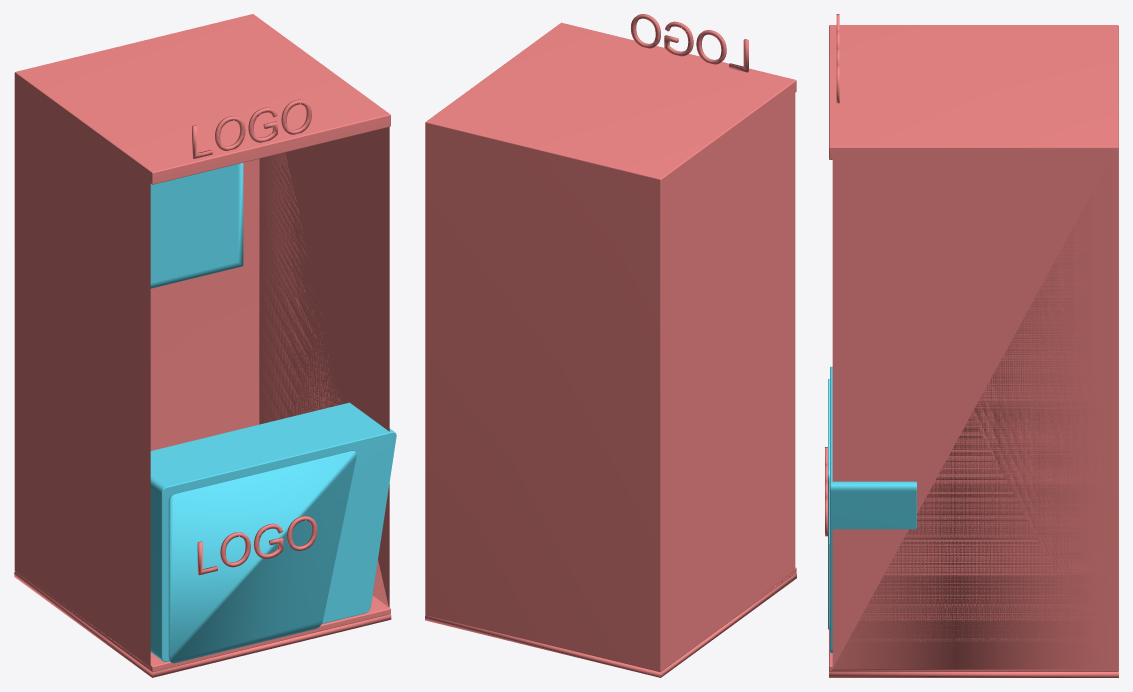
The model's file is stand00.obj.
The picture shows the model from 3 angles, left to right: view 1: azimuth 30°, elevation 25°; view 2: azimuth 150°, elevation 25°; view 3: azimuth 270°, elevation 25°; orthographic projection. The views are drawn at different scales.
Visible parts, largest first — view 1: Rectangle004, Box007, Box006, Box008, Box005, TextPlus001, TextPlus002; view 2: Rectangle004, Box005, TextPlus002; view 3: Rectangle004, Box006, Box005, Box007.
Part boxes in pixels (box(x1,y1,x2,y2)): Rectangle004: box(14, 14, 390, 672); Box007: box(168, 450, 356, 663); Box006: box(150, 402, 396, 661); Box008: box(150, 163, 243, 288); Box005: box(14, 572, 391, 677); TextPlus001: box(197, 516, 317, 575); TextPlus002: box(192, 99, 311, 158); Rectangle004: box(425, 22, 796, 672); Box005: box(425, 573, 796, 677); TextPlus002: box(630, 14, 748, 72); Rectangle004: box(829, 25, 1118, 671); Box006: box(830, 366, 916, 653); Box005: box(829, 671, 1118, 677); Box007: box(828, 379, 829, 629).
Size of the model in its own units: 103 by 221 by 101.
Materials: 2 (2 with a texture image).
